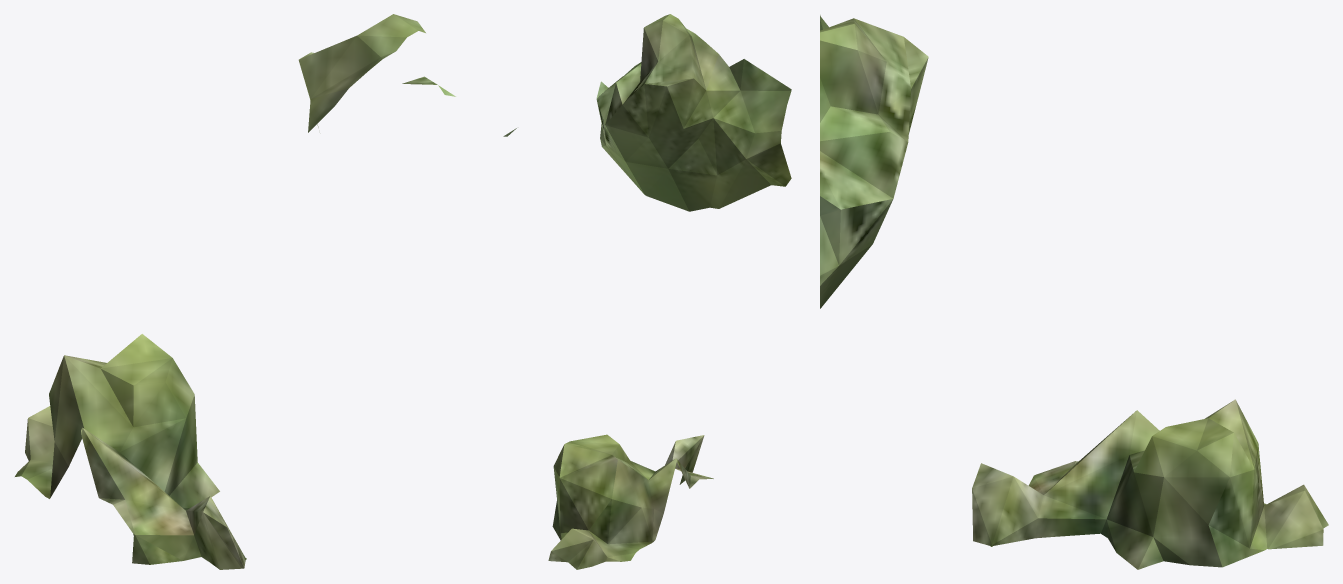
The picture shows the model from 3 angles, left to right: view 1: azimuth 30°, elevation 25°; view 2: azimuth 150°, elevation 25°; view 3: azimuth 270°, elevation 25°; orthographic projection. The views are drawn at different scales.
Bounding box in the file's own units: 5.33 × 10.72 × 8.85.
1 material, 1 textured.
